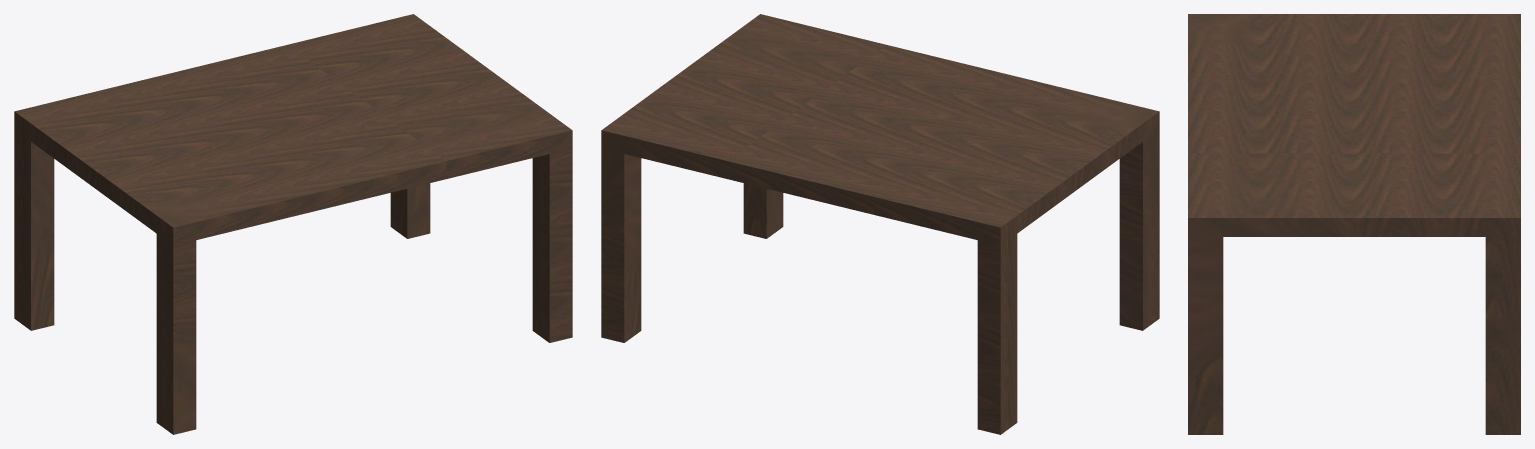
File: table.fbx
The picture shows the model from 3 angles, left to right: view 1: azimuth 30°, elevation 25°; view 2: azimuth 150°, elevation 25°; view 3: azimuth 270°, elevation 25°; orthographic projection. The views are drawn at different scales.
Parts seen in each view (by area): view 1: Cube; view 2: Cube; view 3: Cube.
Part boxes in pixels (box(x1,y1,x2,y2)): Cube: box(14, 14, 572, 434); Cube: box(601, 14, 1159, 434); Cube: box(1188, 14, 1520, 434).
Size of the model in its own units: 28.77 by 14.27 by 19.84.
Materials: 1 (1 with a texture image).
